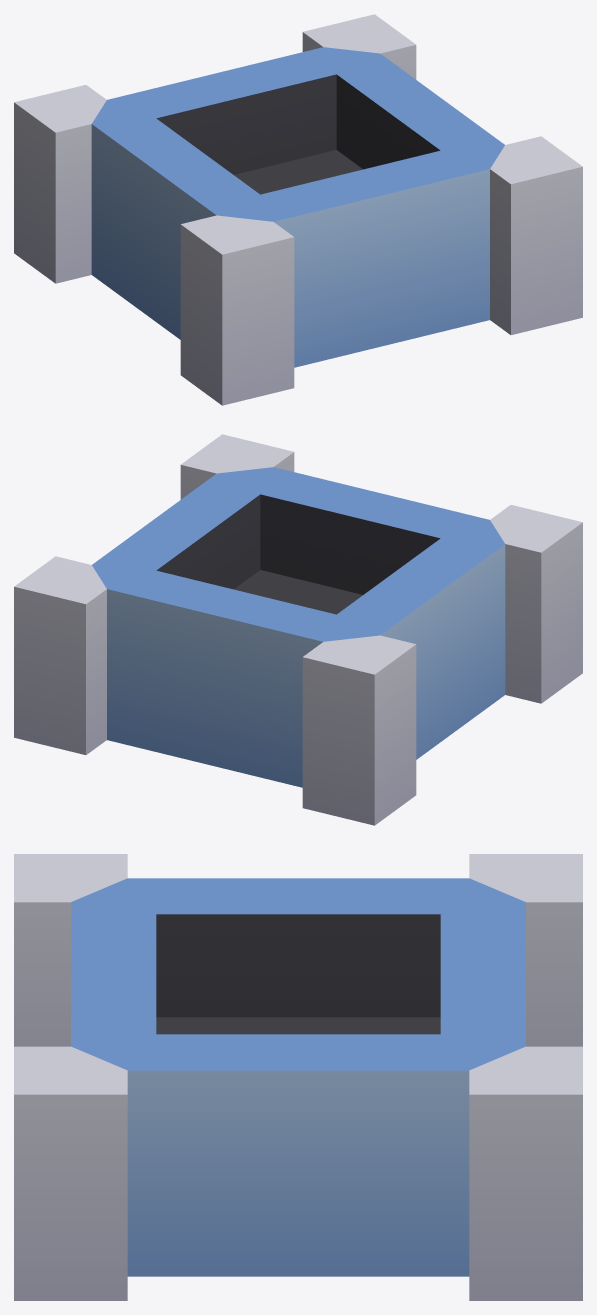
The model's file is chest.glb.
The picture shows the model from 3 angles, top to bottom: view 1: azimuth 30°, elevation 25°; view 2: azimuth 150°, elevation 25°; view 3: azimuth 270°, elevation 25°; orthographic projection. The views are drawn at different scales.
Visible parts, largest first — view 1: chest; view 2: chest; view 3: chest.
Part boxes in pixels (<box>): chest: <box>14,14,582,405</box>; chest: <box>14,434,582,825</box>; chest: <box>14,854,582,1300</box>.
Size of the model in its own units: 0.5 by 0.2 by 0.5.
1 material, 1 textured.
